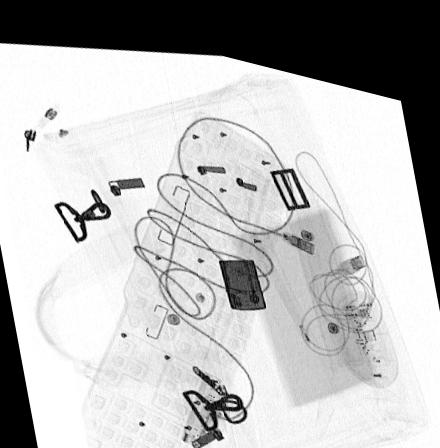Lighter: (217, 246, 265, 298)
